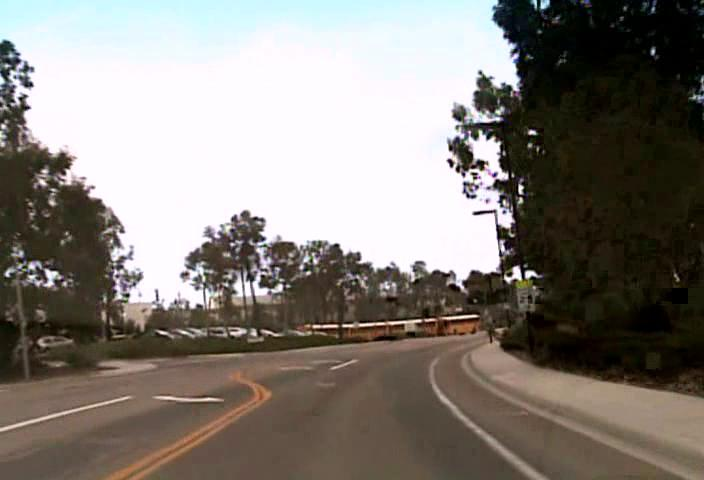schoolSpeedLimit25: (515, 279, 535, 312)
